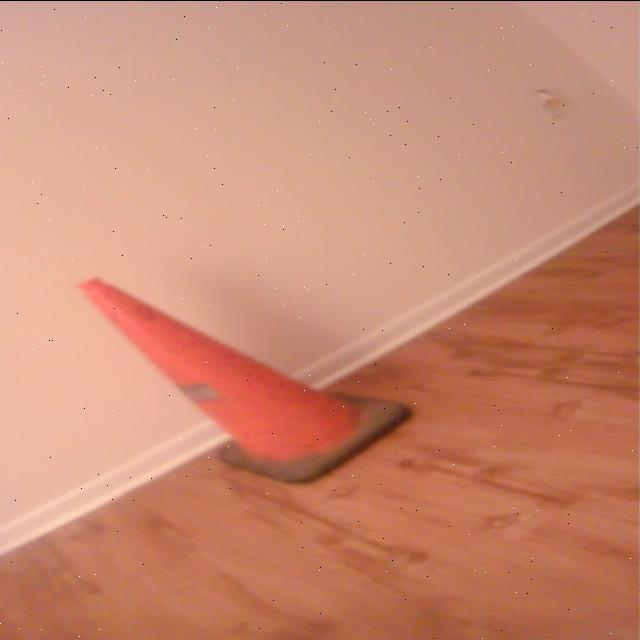traffic cone: (73, 270, 421, 490)
